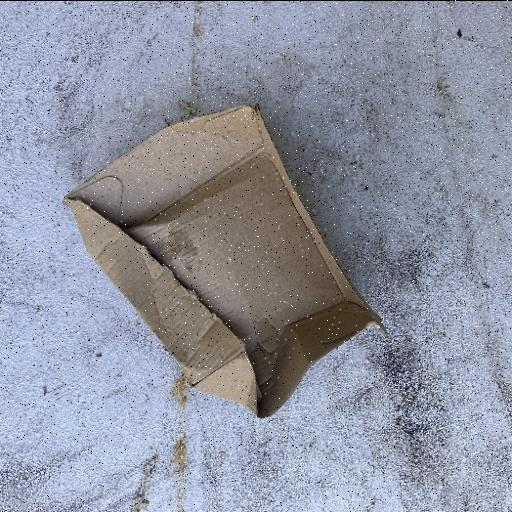Cardboard: (60, 102, 388, 420)
